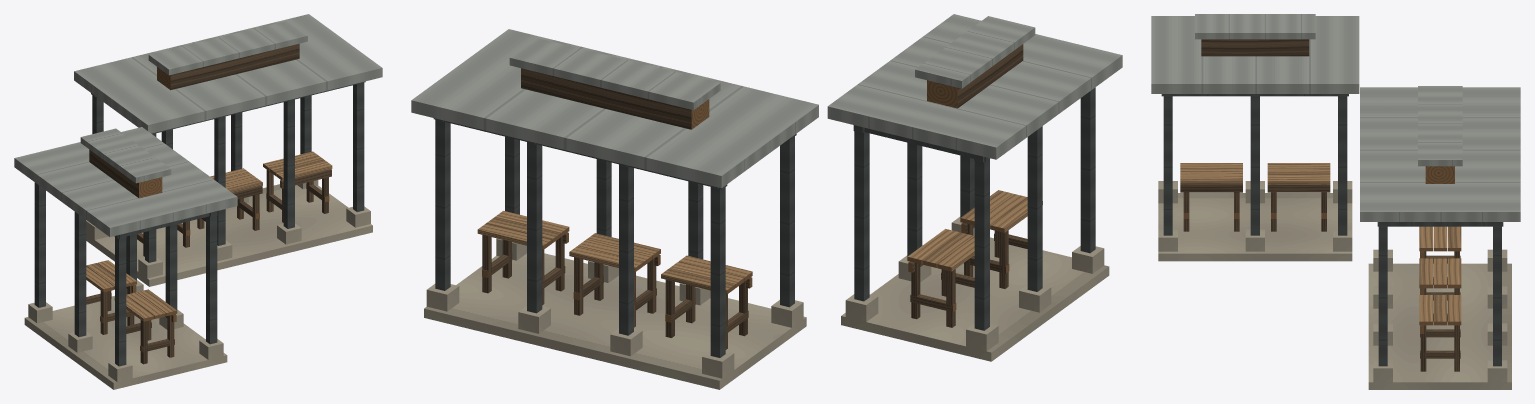
The picture shows the model from 3 angles, left to right: view 1: azimuth 30°, elevation 25°; view 2: azimuth 150°, elevation 25°; view 3: azimuth 270°, elevation 25°; orthographic projection. The views are drawn at different scales.
Parts seen in each view (by area): view 1: tel-aviv-yafo; view 2: tel-aviv-yafo; view 3: tel-aviv-yafo.
Part boxes in pixels (bbox=[...]): tel-aviv-yafo: bbox=[14, 14, 382, 389]; tel-aviv-yafo: bbox=[411, 14, 1122, 389]; tel-aviv-yafo: bbox=[1151, 14, 1520, 389].
Size of the model in its own units: 5.06 by 2.5 by 4.03.
Materials: 1 (1 with a texture image).
